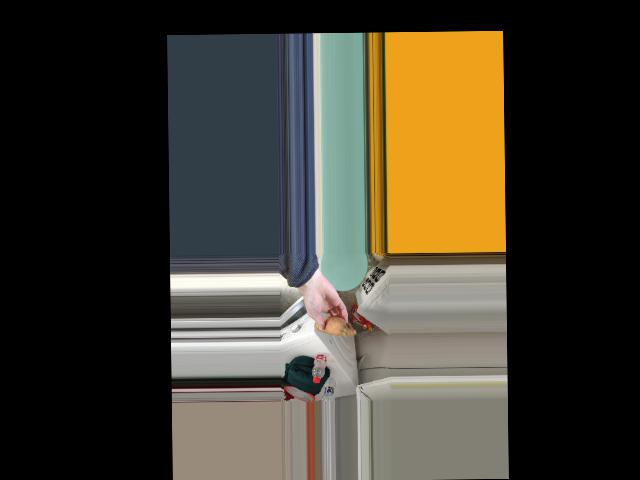sweet_potato: (316, 318, 348, 336)
